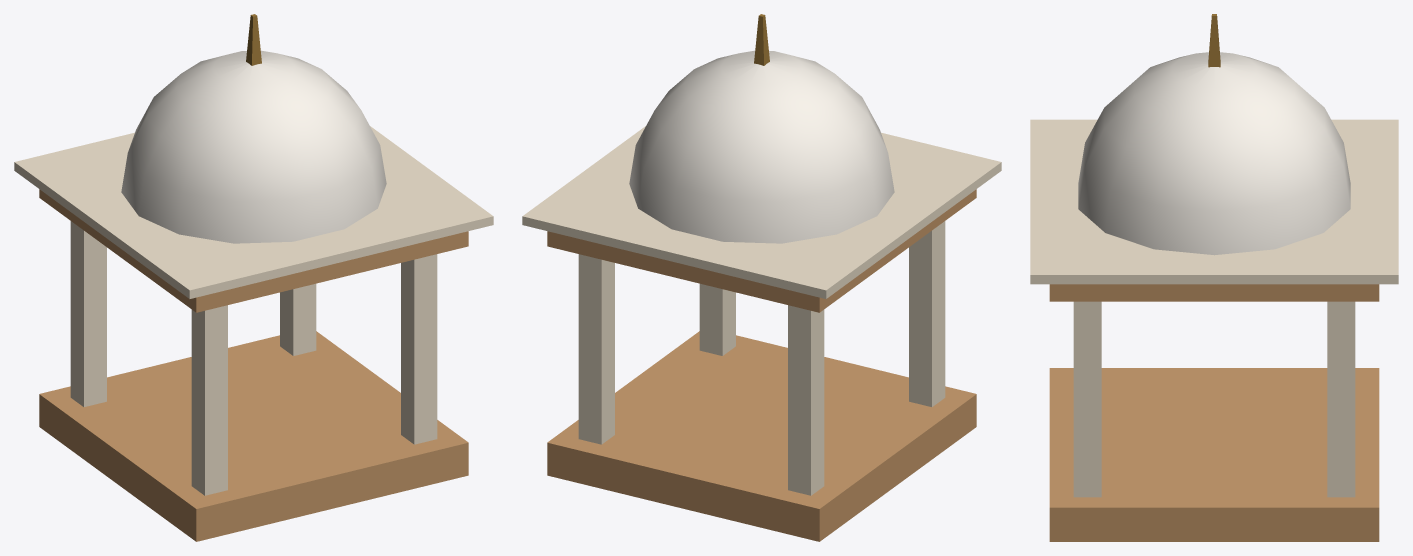
Rendered from bldg_chhatri.glb.
3 renders of one model, left to right at view 1: azimuth 30°, elevation 25°; view 2: azimuth 150°, elevation 25°; view 3: azimuth 270°, elevation 25°, orthographic. The views are drawn at different scales.
Visible parts, largest first — view 1: bldg_chhatri; view 2: bldg_chhatri; view 3: bldg_chhatri.
Part boxes in pixels (bbox=[...]): bldg_chhatri: bbox=[14, 14, 493, 541]; bldg_chhatri: bbox=[522, 14, 1001, 541]; bldg_chhatri: bbox=[1030, 14, 1398, 541].
Size of the model in its own units: 2.9 by 3.97 by 2.9.
1 material, 1 textured.
